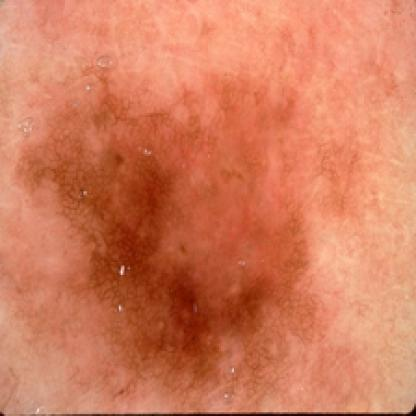malignant: (35, 65, 322, 340)
